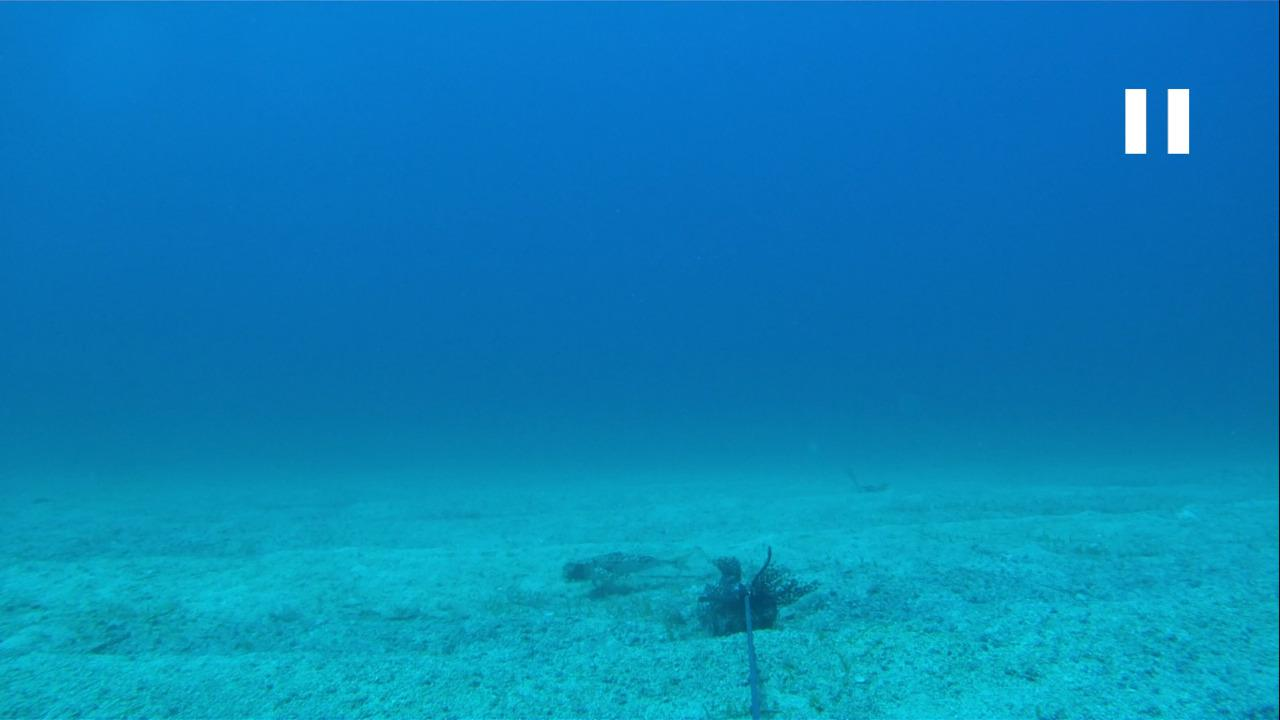dactylopterus: (555, 539, 694, 587)
